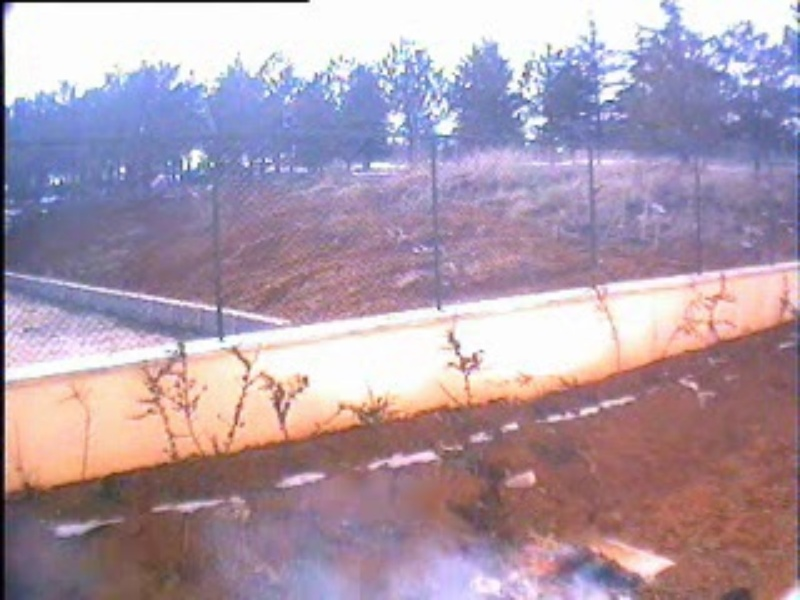smoke: (207, 519, 478, 595)
